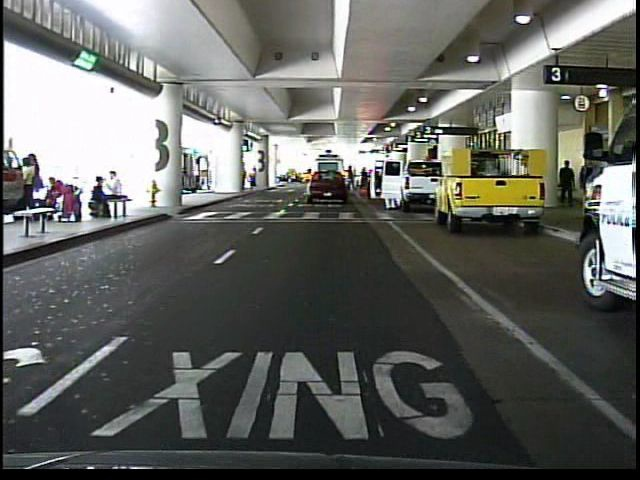person: (554, 156, 578, 211), (249, 166, 260, 191)
